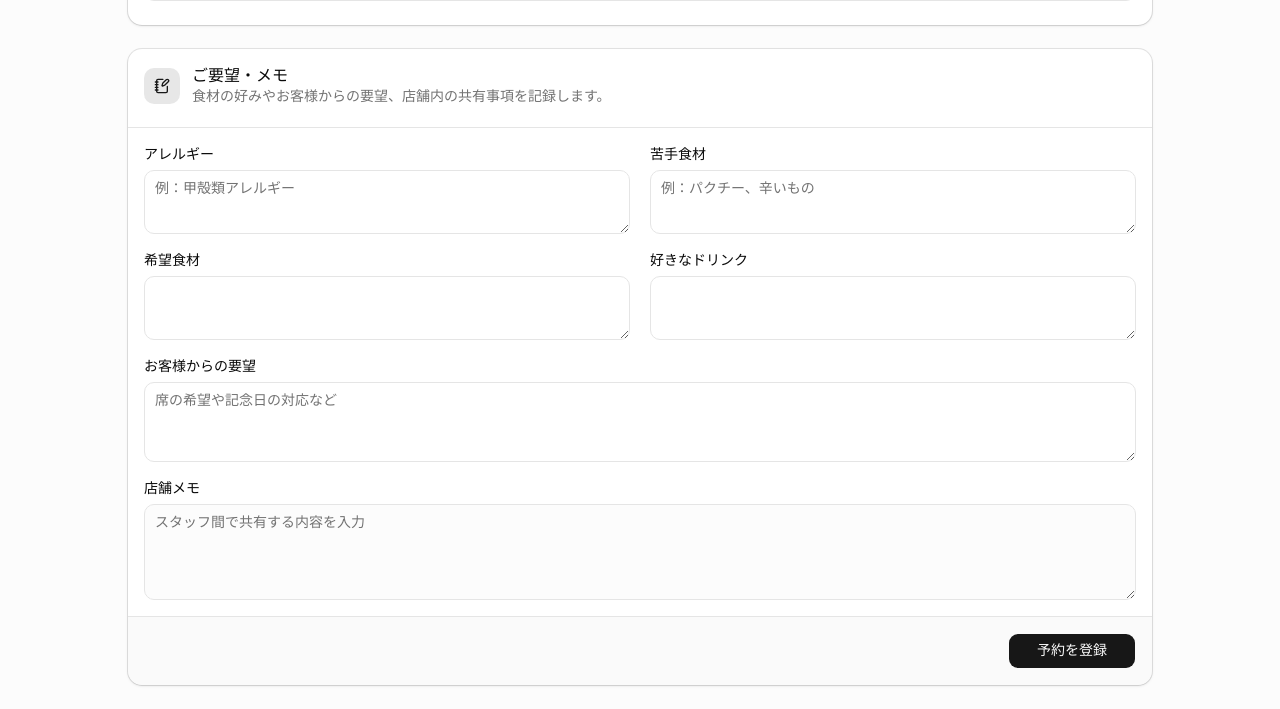
NewReservationFormContainer › APIが422の項目エラーを返すと、該当する入力欄へエラーを表示する
The width and height of the screenshot is (1280, 709).
(page scrolled)
Click the button "予約を登録" at x=1072, y=651, box x1=1008 y1=633 x2=1136 y2=669
(page scrolled)
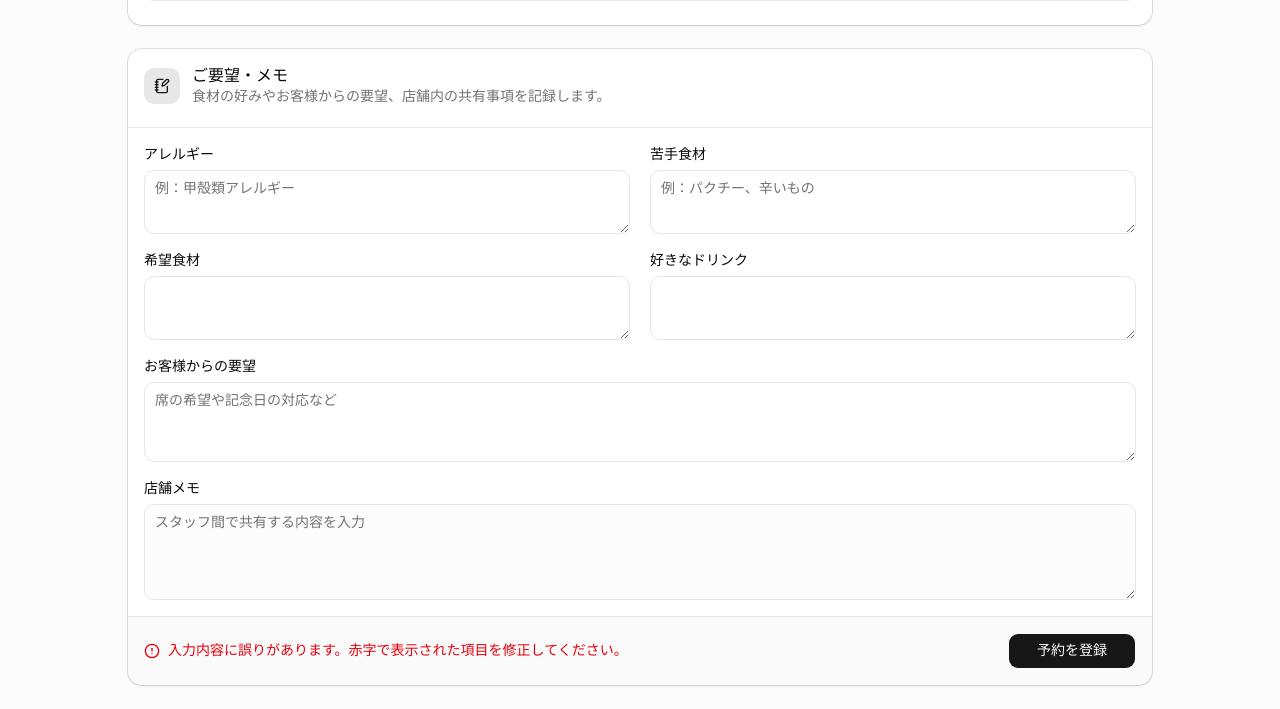
Expected: the text "入力内容に誤りがあります。赤字で表示された項目を修正してください。" is shown, x1=168 y1=641 x2=628 y2=661
